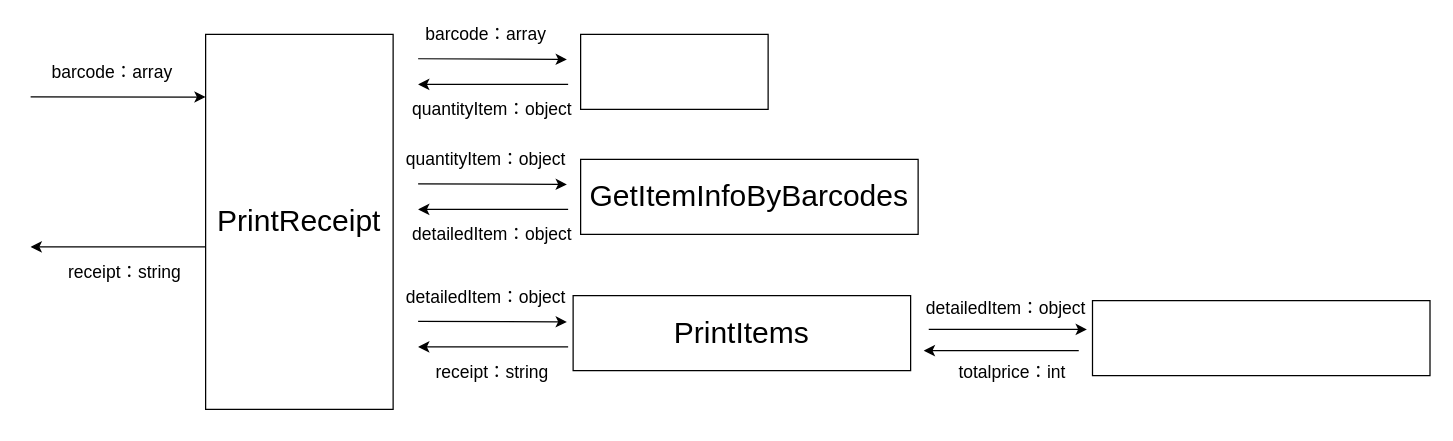
This 1453x441 diagram has some shape labels left out. The centre of each missing label's shape, as x and y in pixels:
CalculateTotalPrice: point 1260,337
GetQuantity: point 673,71
